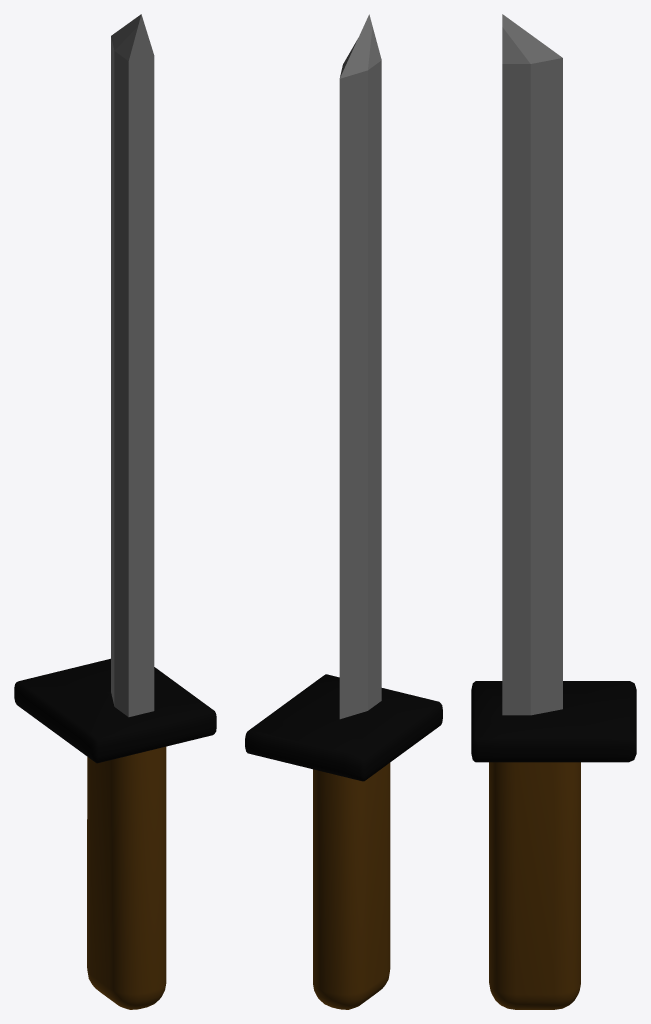
The model's file is меч1.fbx.
3 renders of one model, left to right at view 1: azimuth 30°, elevation 25°; view 2: azimuth 150°, elevation 25°; view 3: azimuth 270°, elevation 25°, orthographic. The views are drawn at different scales.
Parts seen in each view (by area): view 1: лезо; view 2: лезо; view 3: лезо.
Boxes of the visible parts, x1,y1,x2,y2 form: лезо: (14,14,216,1009); лезо: (245,14,442,1009); лезо: (471,14,636,1009).
Size of the model in its own units: 23.56 by 182 by 27.4.
